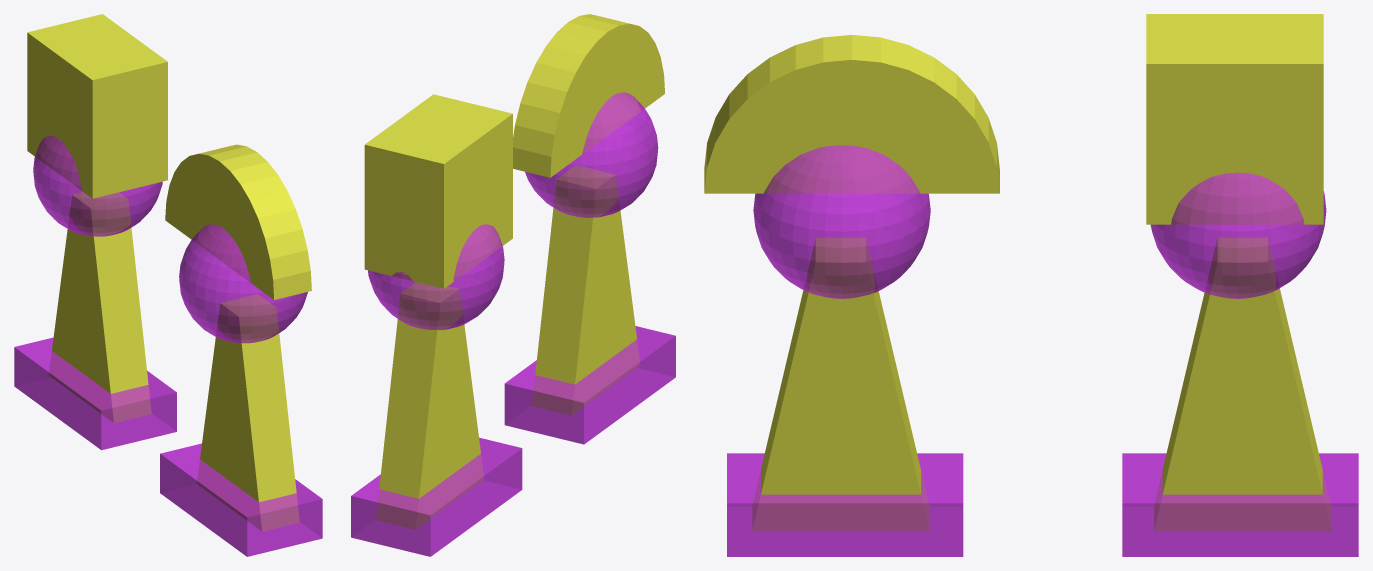
The model's file is transparencia.fbx.
3 renders of one model, left to right at view 1: azimuth 30°, elevation 25°; view 2: azimuth 150°, elevation 25°; view 3: azimuth 270°, elevation 25°, orthographic. The views are drawn at different scales.
Parts seen in each view (by area): view 1: Cylinder.007; view 2: Cylinder.007; view 3: Cylinder.007.
Part boxes in pixels (<box>): Cylinder.007: <box>14,14,322,556</box>; Cylinder.007: <box>351,14,675,556</box>; Cylinder.007: <box>704,14,1358,556</box>.
Bounding box in the file's own units: 300 × 920 × 1107.
